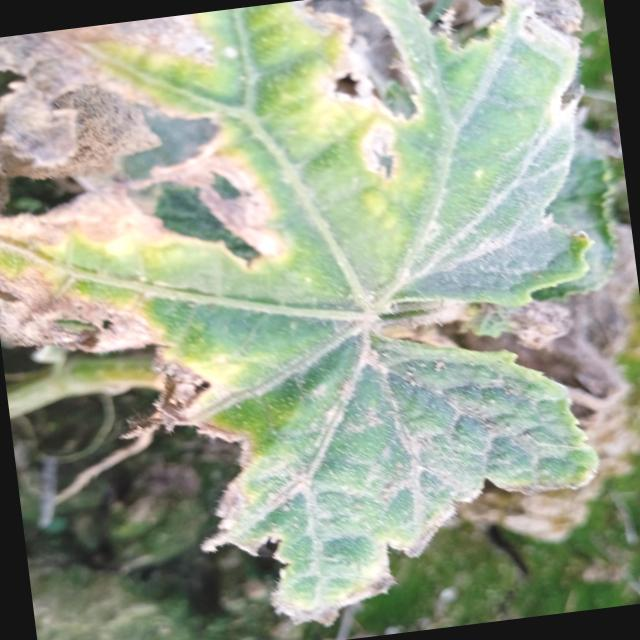cucumber_anthracnose: (0, 0, 629, 640)
